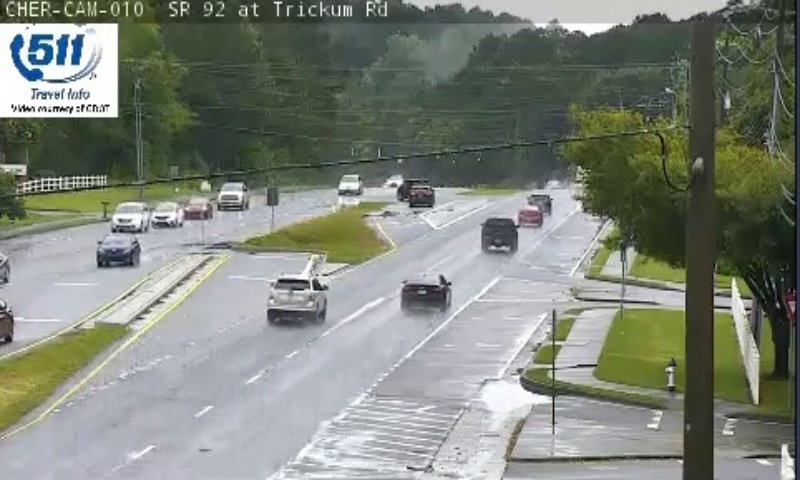car: (267, 276, 326, 317), (401, 273, 449, 307), (481, 217, 517, 253), (517, 205, 541, 227), (527, 193, 551, 214)
